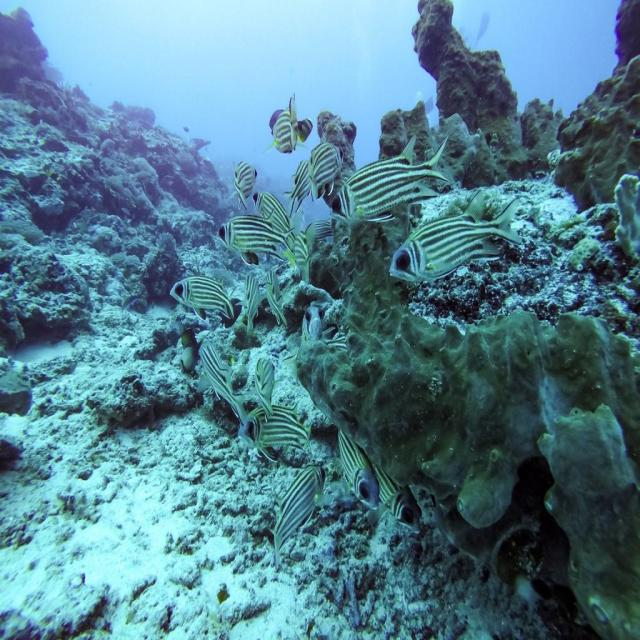Asker Baligi: (388, 188, 523, 284), (328, 138, 447, 242), (270, 458, 329, 549), (158, 272, 245, 328), (238, 394, 312, 454), (215, 212, 287, 270)
